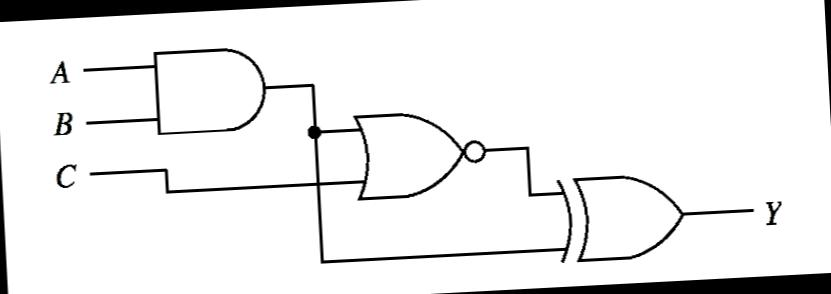and: (144, 40, 273, 142)
nor: (346, 102, 494, 207)
xor: (548, 168, 691, 269)
